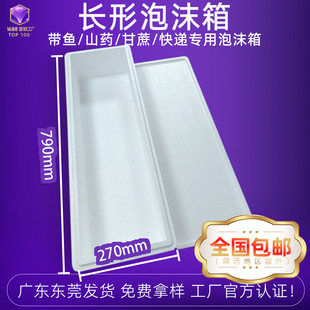Boxes: (65, 46, 250, 265)
